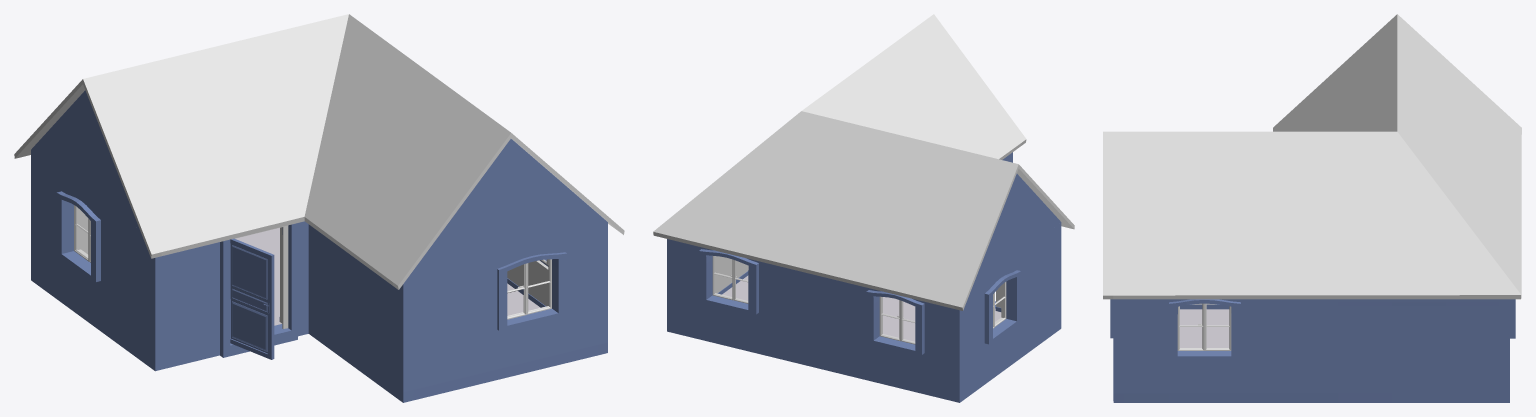
The model's file is house-3.glb.
The picture shows the model from 3 angles, left to right: view 1: azimuth 30°, elevation 25°; view 2: azimuth 150°, elevation 25°; view 3: azimuth 270°, elevation 25°; orthographic projection. The views are drawn at different scales.
Visible parts, largest first — view 1: roof, walls, roof.001, roof.002, porte, sols, cloison, encadrement-porte, cloison-1, window-2.001; view 2: roof, walls, roof.002, sols, cloison-1, window-2.003, window-2.002; view 3: roof, walls, sols, window-2.
Part boxes in pixels (left/top/right/bottom): roof: left=14, top=14, right=624, bottom=289; walls: left=31, top=150, right=607, bottom=402; roof.001: left=414, top=139, right=607, bottom=269; roof.002: left=31, top=90, right=139, bottom=228; porte: left=230, top=238, right=274, bottom=359; sols: left=235, top=228, right=540, bottom=325; cloison: left=507, top=259, right=549, bottom=316; encadrement-porte: left=235, top=225, right=288, bottom=328; cloison-1: left=77, top=207, right=282, bottom=323; window-2.001: left=507, top=259, right=551, bottom=319; roof: left=653, top=14, right=1074, bottom=310; walls: left=667, top=152, right=1061, bottom=402; roof.002: left=972, top=173, right=1060, bottom=286; sols: left=722, top=275, right=1001, bottom=341; cloison-1: left=715, top=256, right=1003, bottom=342; window-2.003: left=879, top=296, right=915, bottom=344; window-2.002: left=712, top=256, right=748, bottom=303; roof: left=1103, top=14, right=1521, bottom=299; walls: left=1110, top=299, right=1515, bottom=402; sols: left=1180, top=309, right=1229, bottom=347; window-2: left=1177, top=303, right=1231, bottom=350.
Bounding box in the file's own units: 7.41 × 4.66 × 7.82.
